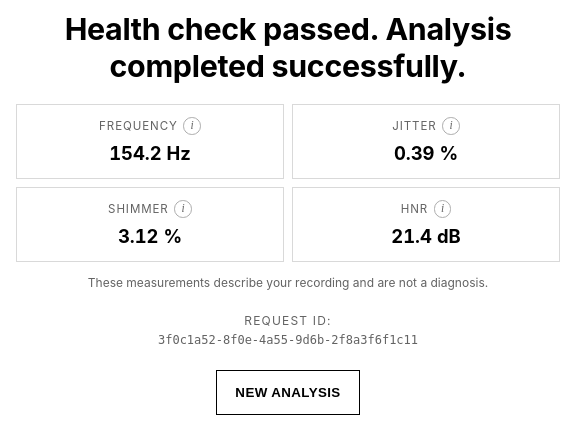
AnalysisPage › voice measurements › explains a measurement only when its info button is used
Expected: the text "How much the pitch of your voice wavers from one instant to the next." is not shown
Click the button named "What is Jitter?": x=451, y=126 x1=442 y1=117 x2=460 y2=135
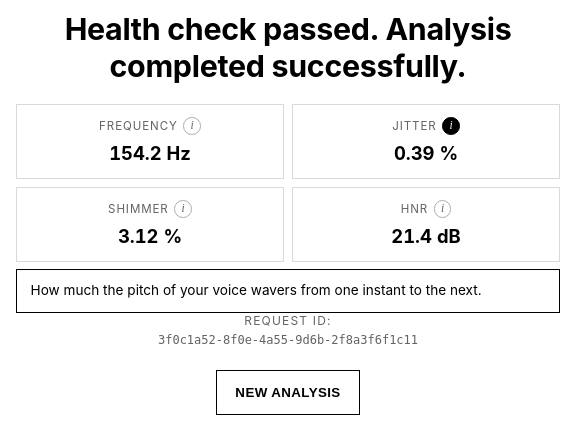
Expected: the text "How much the pitch of your voice wavers from one instant to the next." is shown, x1=16 y1=269 x2=560 y2=313
Expected: the button named "What is Jitter?" is expanded
Click the button named "What is Jitter?": x=451, y=126 x1=442 y1=117 x2=460 y2=135
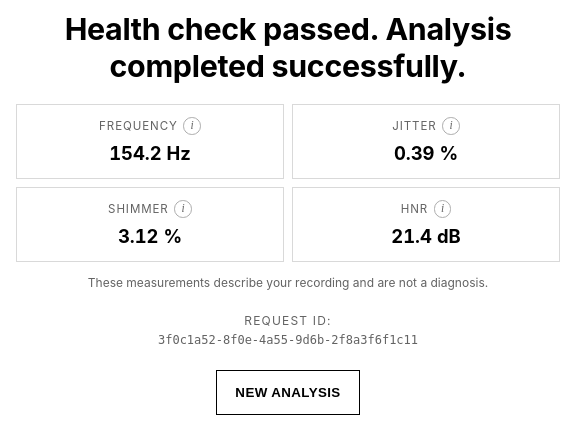
Expected: the text "How much the pitch of your voice wavers from one instant to the next." is gone
